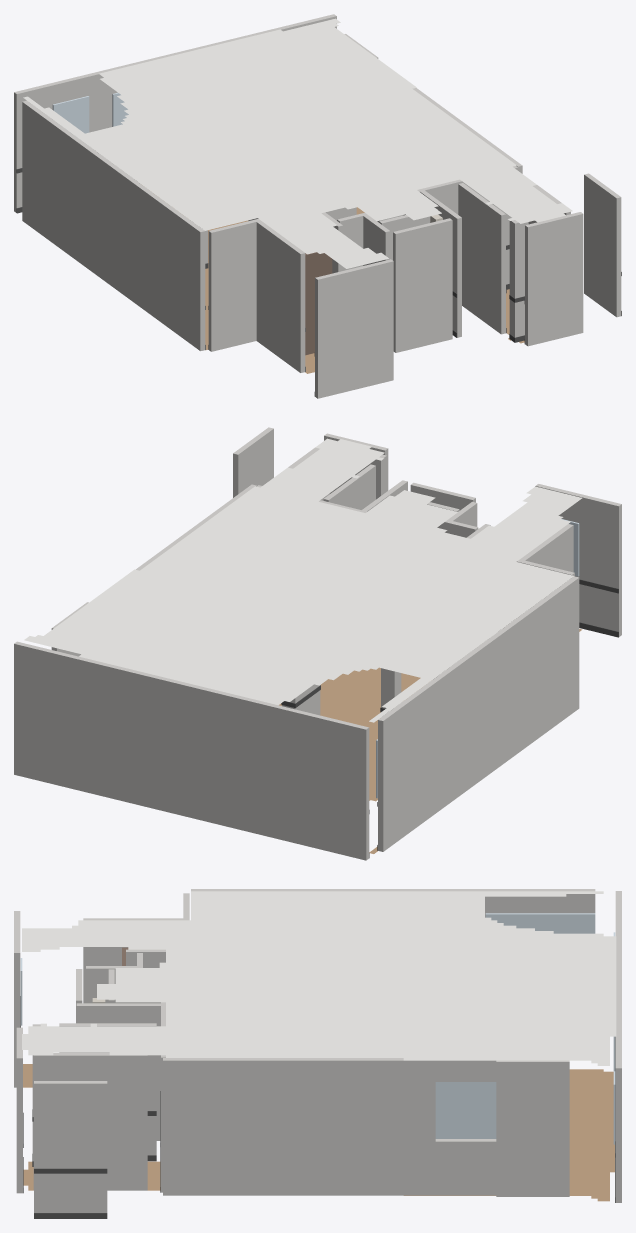
File: reconstructed_room.glb
The picture shows the model from 3 angles, top to bottom: view 1: azimuth 30°, elevation 25°; view 2: azimuth 150°, elevation 25°; view 3: azimuth 270°, elevation 25°; orthographic projection. The views are drawn at different scales.
Parts seen in each view (by area): view 1: ceiling, wall_x_0, wall_z_15, wall_z_13, wall_z_12, wall_x_2, wall_z_11, wall_x_3, wall_x_6, wall_z_9, thin_column_22, wall_x_4 (+7 smaller); view 2: ceiling, wall_z_9, wall_x_0, wall_z_15, floor, wall_x_6, wall_x_2, wall_x_3, wall_z_13, thin_column_6; view 3: ceiling, wall_x_1, wall_x_8, wall_x_6, wall_x_19, floor, wall_x_1_window_0, wall_x_1_sill, wall_x_0, wall_x_4, wall_z_9, wall_x_0_window_0 (+7 smaller).
Part boxes in pixels (box(x1,y1,x2,y2)): ceiling: box(23, 18, 572, 268); wall_x_0: box(22, 100, 205, 351); wall_z_15: box(315, 259, 393, 398); wall_z_13: box(393, 218, 452, 352); wall_z_12: box(525, 212, 583, 346); wall_x_2: box(254, 219, 305, 372); wall_z_11: box(208, 219, 258, 351); wall_x_3: box(458, 183, 505, 334); wall_x_6: box(584, 173, 621, 317); wall_z_9: box(14, 14, 336, 212); thin_column_22: box(509, 220, 528, 337); wall_x_4: box(403, 188, 461, 337); ceiling: box(24, 438, 582, 722); wall_z_9: box(14, 641, 369, 860); wall_x_0: box(378, 576, 579, 851); wall_z_15: box(535, 484, 621, 636); floor: box(279, 629, 582, 853); wall_x_6: box(233, 427, 273, 497); wall_x_2: box(517, 524, 573, 572); wall_x_3: box(323, 464, 375, 509); wall_z_13: box(410, 482, 475, 510); thin_column_6: box(381, 668, 401, 708); ceiling: box(22, 891, 616, 1065); wall_x_1: box(163, 1058, 435, 1195); wall_x_8: box(496, 1060, 569, 1196); wall_x_6: box(34, 1081, 107, 1212); wall_x_19: box(33, 1053, 147, 1190); floor: box(23, 1064, 614, 1201); wall_x_1_window_0: box(435, 1082, 496, 1138); wall_x_1_sill: box(435, 1139, 496, 1195); wall_x_0: box(191, 889, 595, 917); wall_x_4: box(76, 1003, 165, 1140); wall_z_9: box(615, 891, 621, 1202); wall_x_0_window_0: box(485, 913, 595, 933).
Size of the model in its own units: 7.37 by 2.39 by 9.72.
